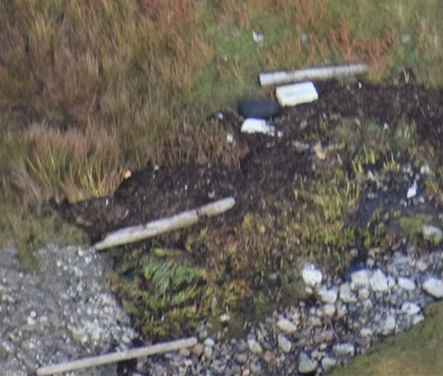scattered_barrel: (228, 24, 384, 145)
straight_bar: (83, 193, 241, 254), (33, 333, 200, 376), (252, 57, 371, 90)
